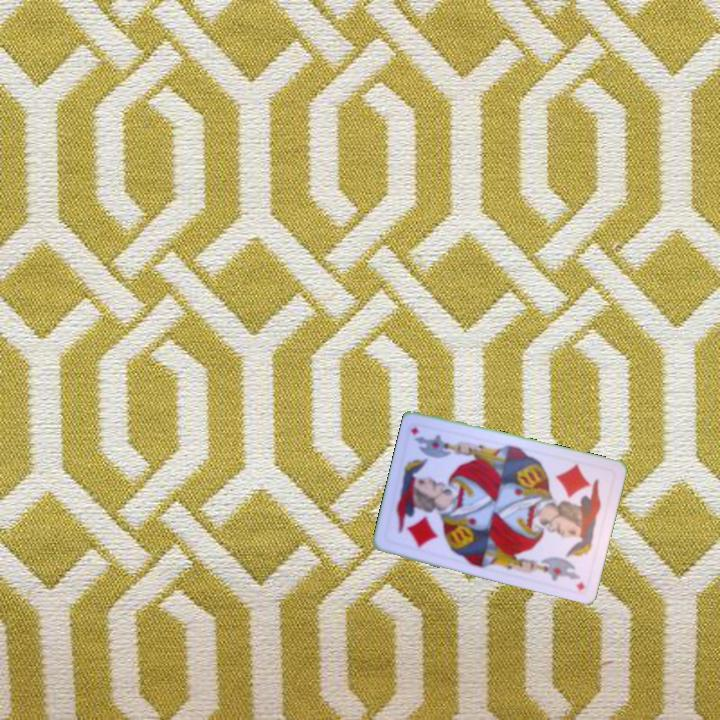d_j.png: (382, 479, 453, 557), (546, 456, 617, 534)
